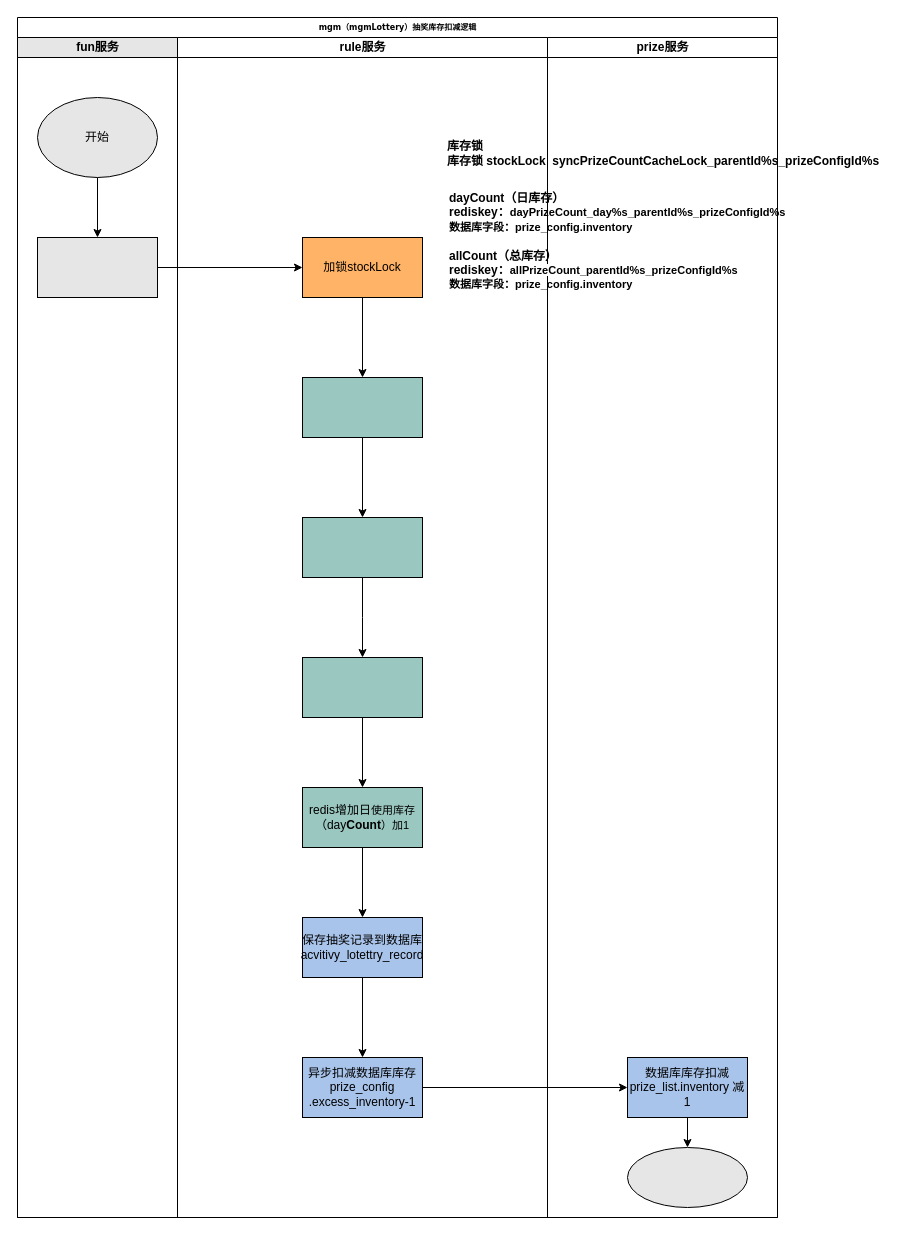
The diagram is 913 pixels wide and 1235 high, and some of its shapes have lost their labels. The shapes that lost their labels are listed below. From the top down, each one's centre as x and y in pixels, then its label:
At (97,267): "抽奖接口".
At (362,407): "redis设置总 使用库存 （ allCount ）".
At (362,547): "redis设置日 使用库存 （day Count ）".
At (362,687): "redis增加总 使用库存 （ allCount ）加1".
At (687,1177): "结束".
